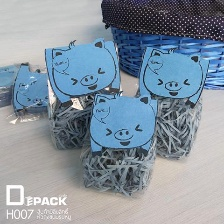snack: (126, 41, 213, 166), (37, 32, 126, 154), (73, 86, 164, 204)
